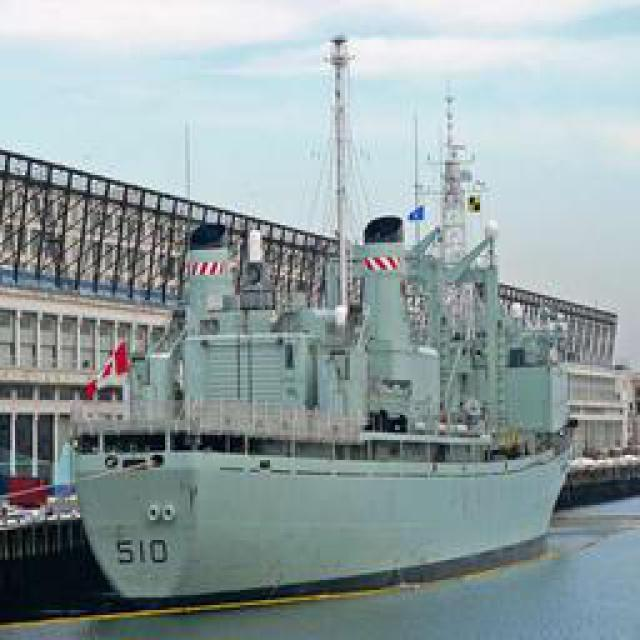Ship: (52, 29, 582, 614)
